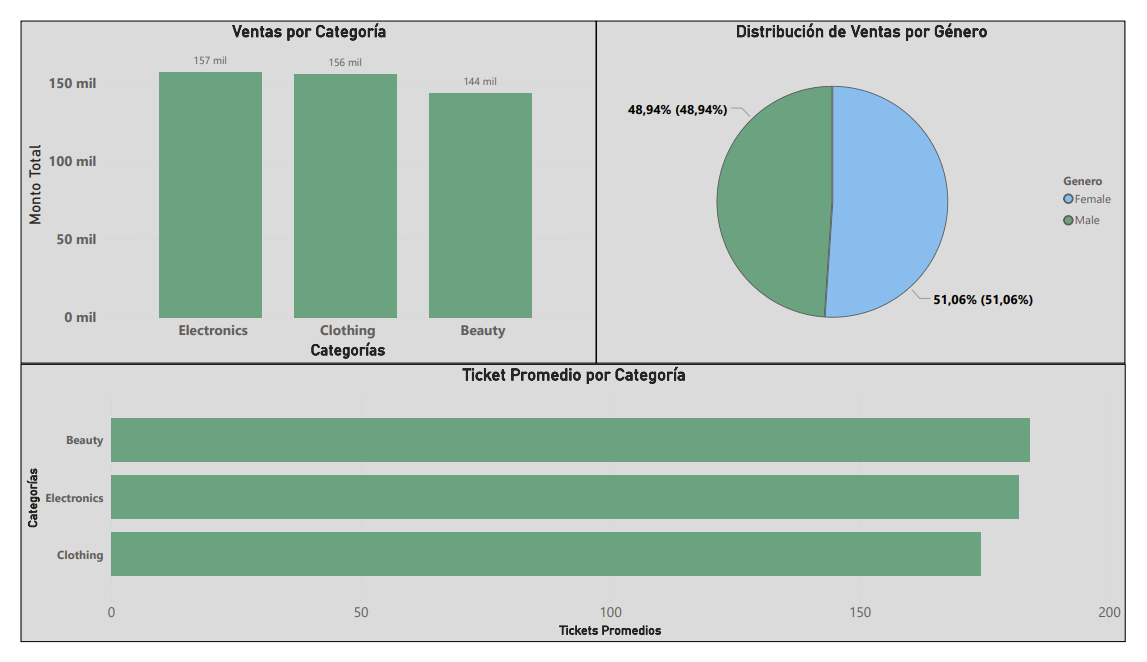

The page's visual inventory and layout, read from the dashboard file:
{"tool":"powerbi","page":{"name":"Página 1","canvas":[1280,720],"ordinal":0},"visuals":[{"type":"columnChart","title":"Ventas por Categoría","fields":{"Category":["Datos Filtrados y limpiados.Product Category"],"Y":["Sum(Datos Filtrados y limpiados.Total Amount)"]},"box":[0,0,666.6,397.5],"z":0},{"type":"pieChart","title":"Distribución de Ventas por Género","fields":{"Category":["Datos Filtrados y limpiados.Gender"],"Y":["Sum(Datos Filtrados y limpiados.Total Amount)"]},"box":[666.6,0,613.4,397.5],"z":1000},{"type":"barChart","title":"Ticket Promedio por Categoría","fields":{"Category":["Datos Filtrados y limpiados.Product Category"],"Y":["Avg(Datos Filtrados y limpiados.Ticket Promedio)"]},"box":[0,397.5,1280,322.3],"z":2000}]}

Visuals, with their boxes in screenshot pixels (x1, y1, x2, y2), scaled from the page's 1280x720 canvas onto the 1147x662 screenshot:
"Ventas por Categoría" columnChart: rect(0, 0, 597, 365)
"Distribución de Ventas por Género" pieChart: rect(597, 0, 1146, 365)
"Ticket Promedio por Categoría" barChart: rect(0, 365, 1146, 661)
